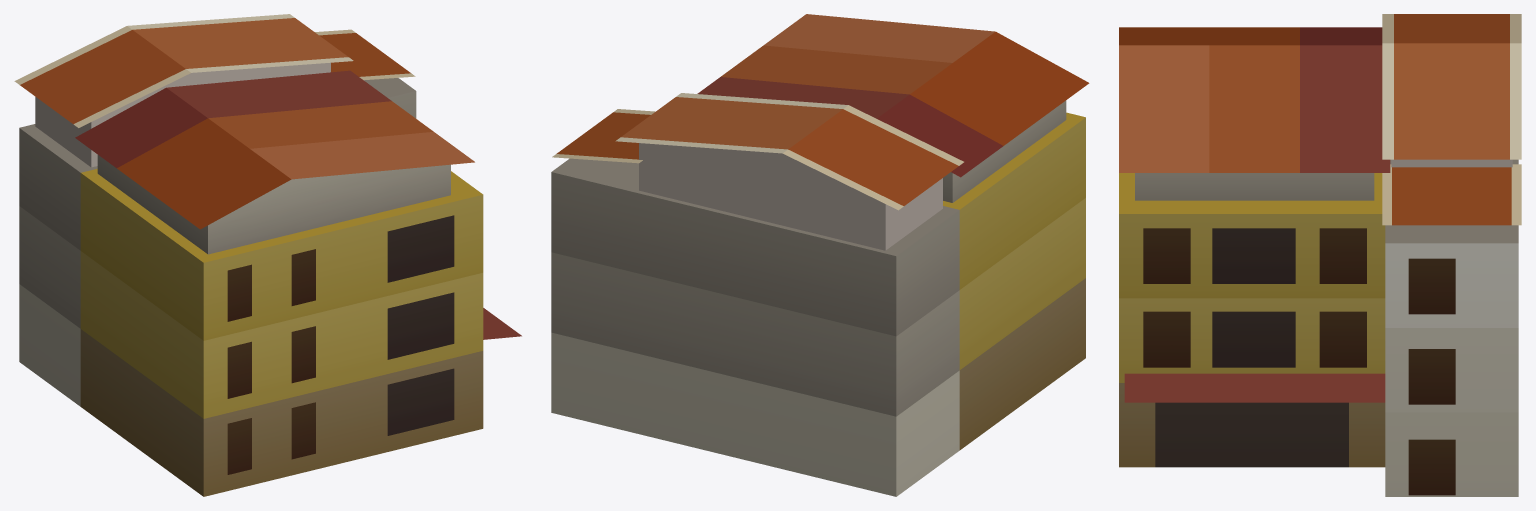
File: SM_City_Building_08.fbx
The picture shows the model from 3 angles, left to right: view 1: azimuth 30°, elevation 25°; view 2: azimuth 150°, elevation 25°; view 3: azimuth 270°, elevation 25°; orthographic projection. The views are drawn at different scales.
Visible parts, largest first — view 1: SM_City_Building_08; view 2: SM_City_Building_08; view 3: SM_City_Building_08.
Boxes of the visible parts, <box> form: SM_City_Building_08: <box>14,14,521,496</box>; SM_City_Building_08: <box>551,14,1089,496</box>; SM_City_Building_08: <box>1119,14,1521,496</box>.
Bounding box in the file's own units: 3.19 × 2.77 × 3.03.
